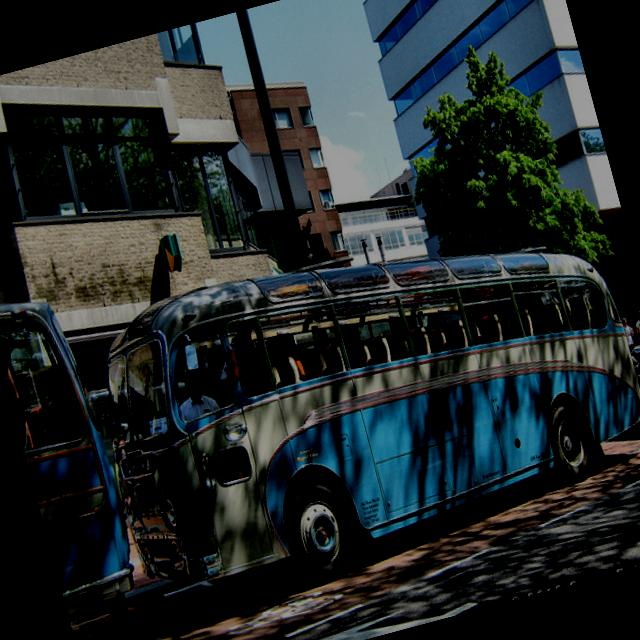Vehicle: (73, 183, 640, 625), (0, 279, 155, 630)
